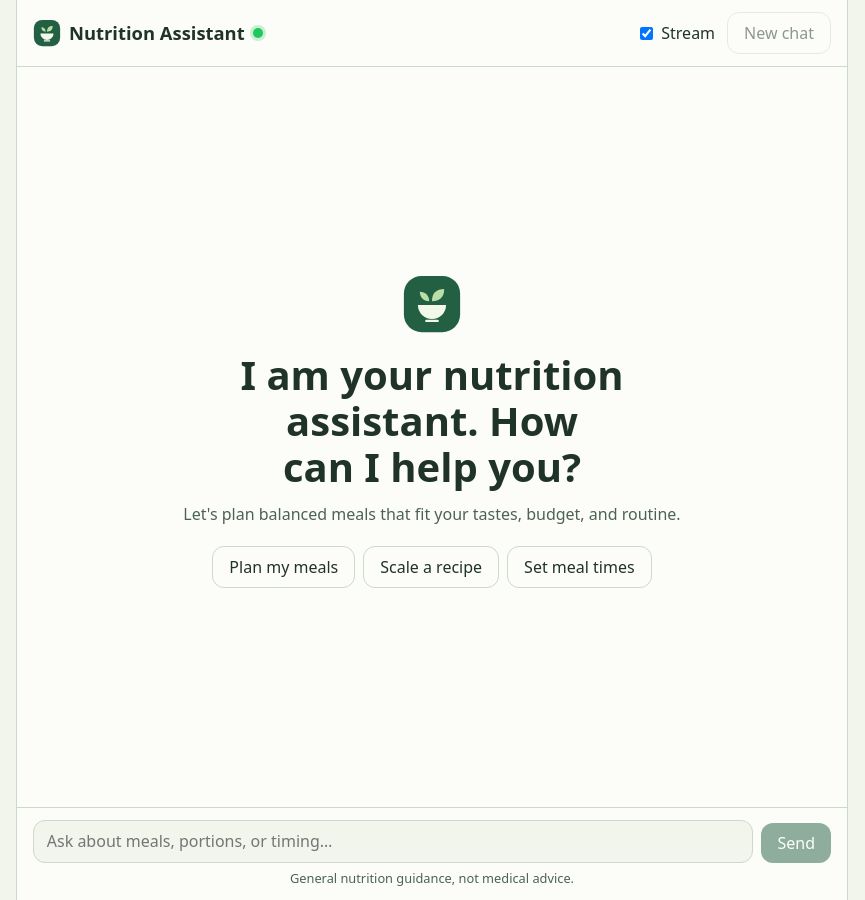
Test case: chat › can stop an in-flight request
This screenshot has width=865, height=900.
Type "Hi" into the text box named "Message". click: (393, 841)
box: [33,820,754,863]
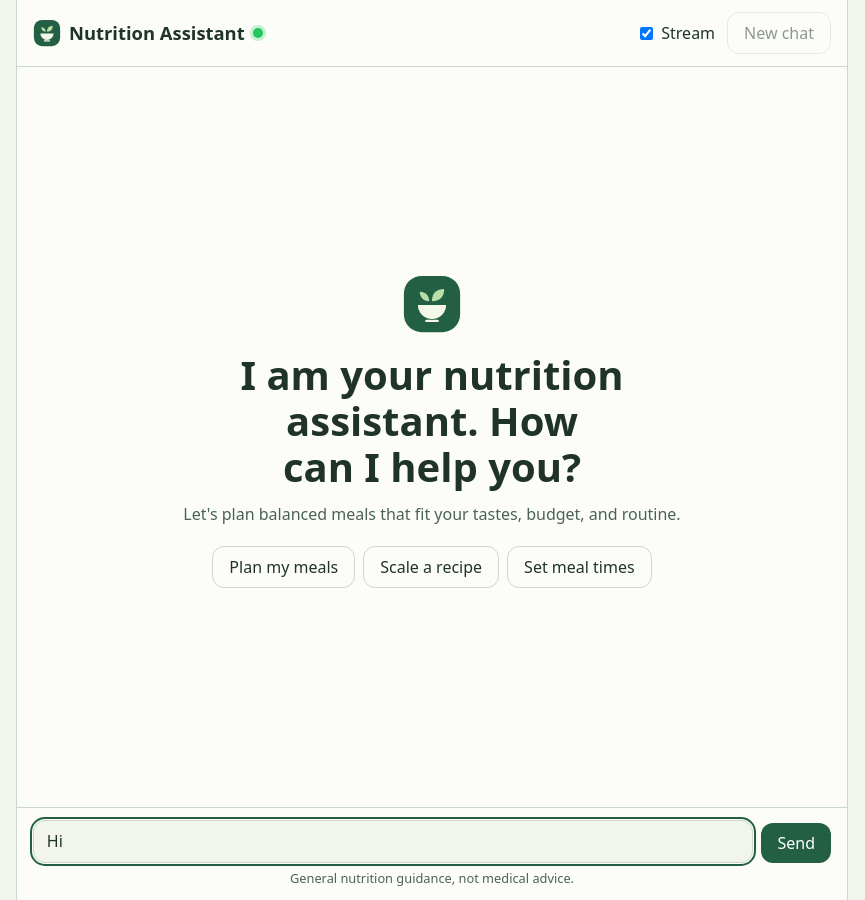
Press Enter
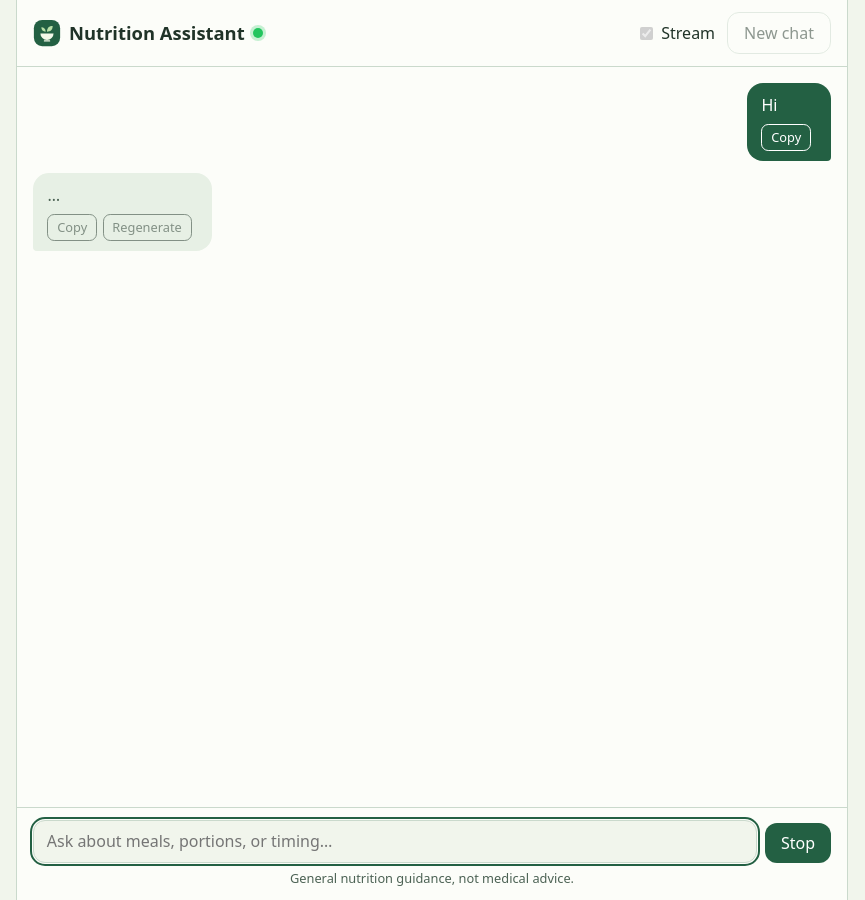
Click the button "Stop". click: (798, 843)
box: [765,823,831,863]
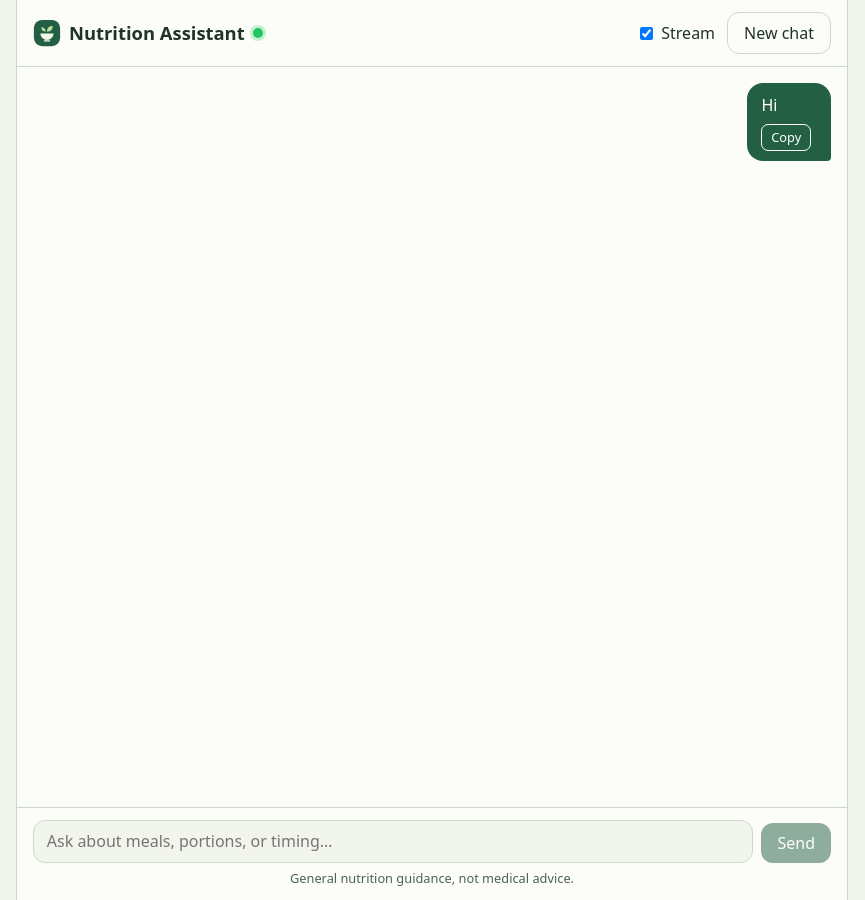
Now the button "Send" is shown, box [762,823,831,863]
